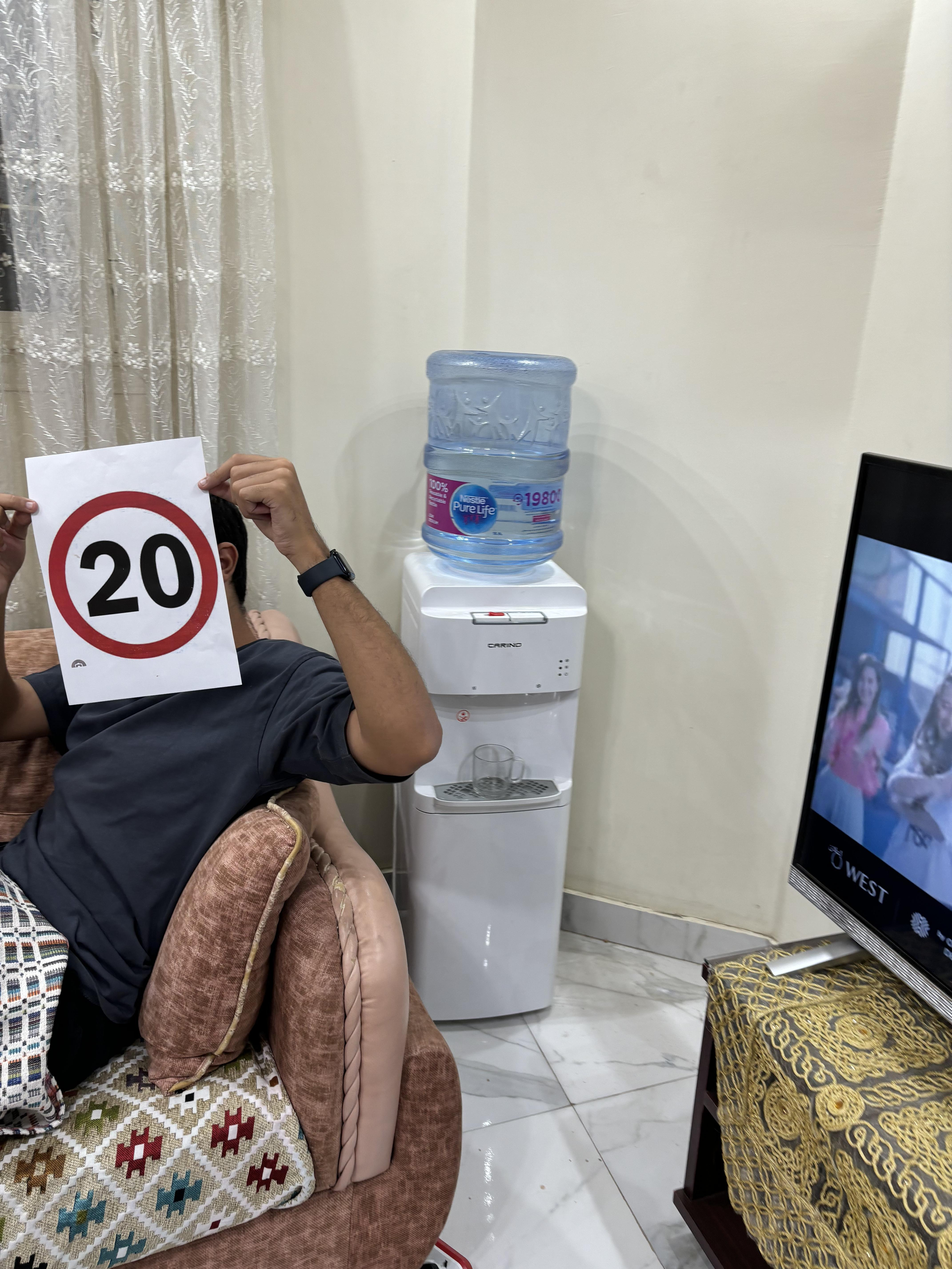20-Speed: (43, 489, 218, 661)
